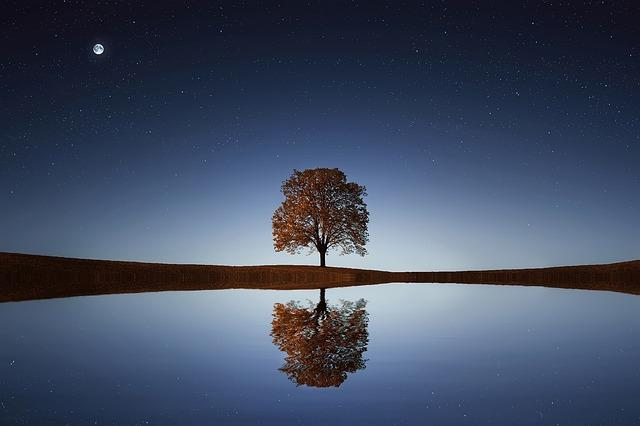Non_Gorille: (74, 52, 475, 426)
